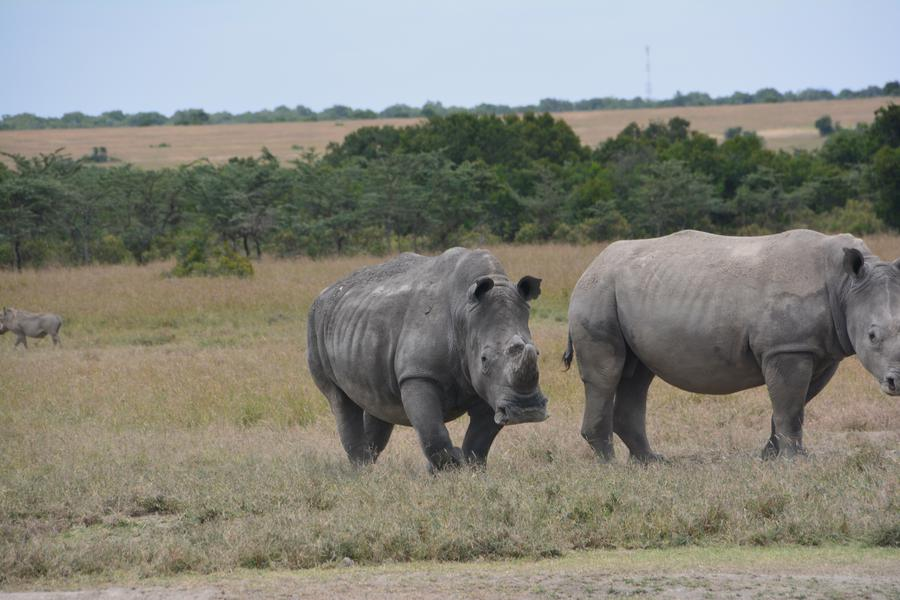rhino: (571, 227, 881, 454), (323, 241, 548, 435)
